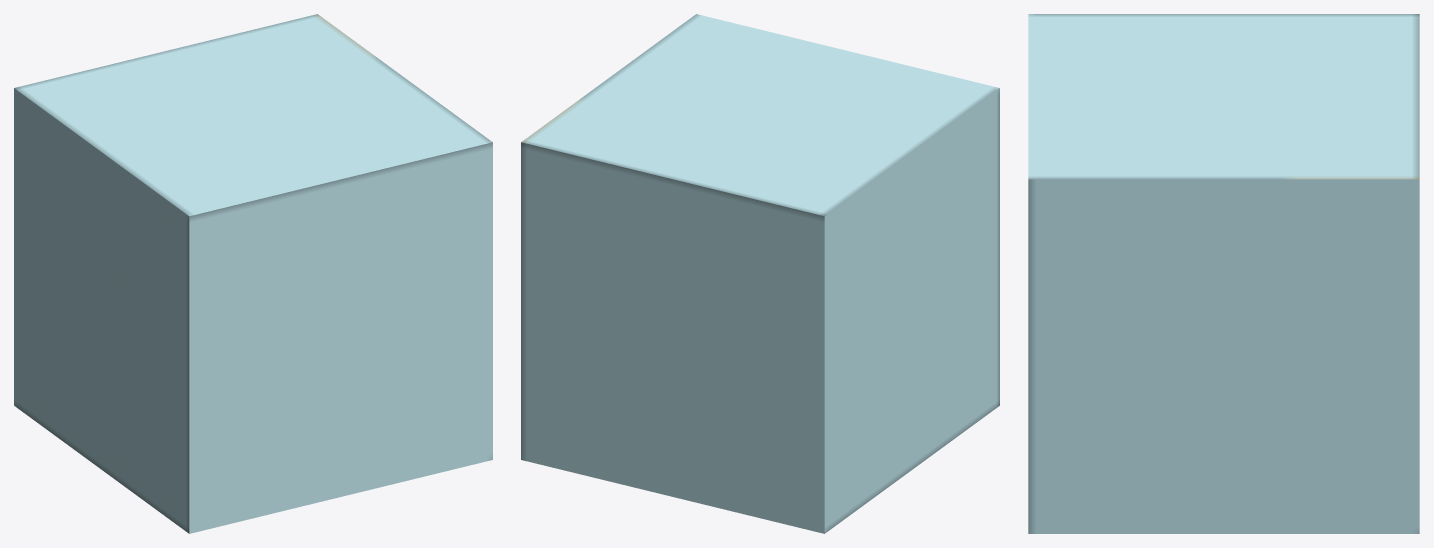
Rendered from planaria_slime_medium4.obj.
3 renders of one model, left to right at view 1: azimuth 30°, elevation 25°; view 2: azimuth 150°, elevation 25°; view 3: azimuth 270°, elevation 25°, orthographic. The views are drawn at different scales.
Parts seen in each view (by area): view 1: cube; view 2: cube; view 3: cube.
Boxes of the visible parts, <box> form: cube: <box>14,14,492,533</box>; cube: <box>521,14,999,533</box>; cube: <box>1028,14,1419,533</box>.
Bounding box in the file's own units: 1 × 1 × 1.
